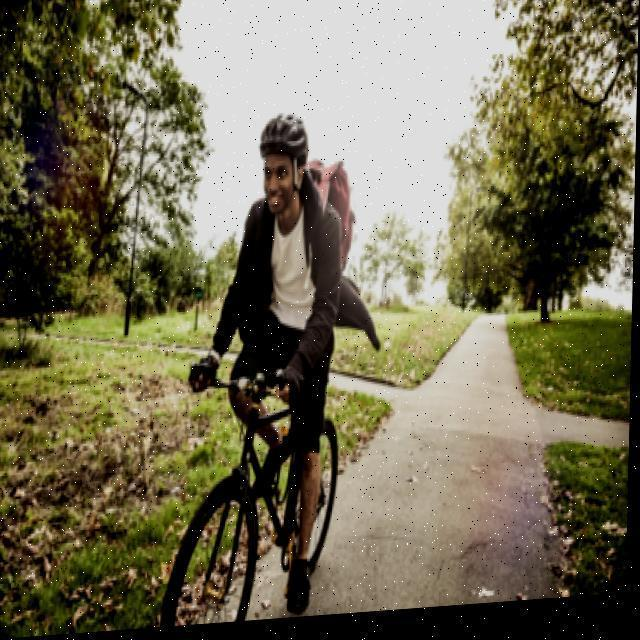Helmet: (256, 106, 312, 230)
